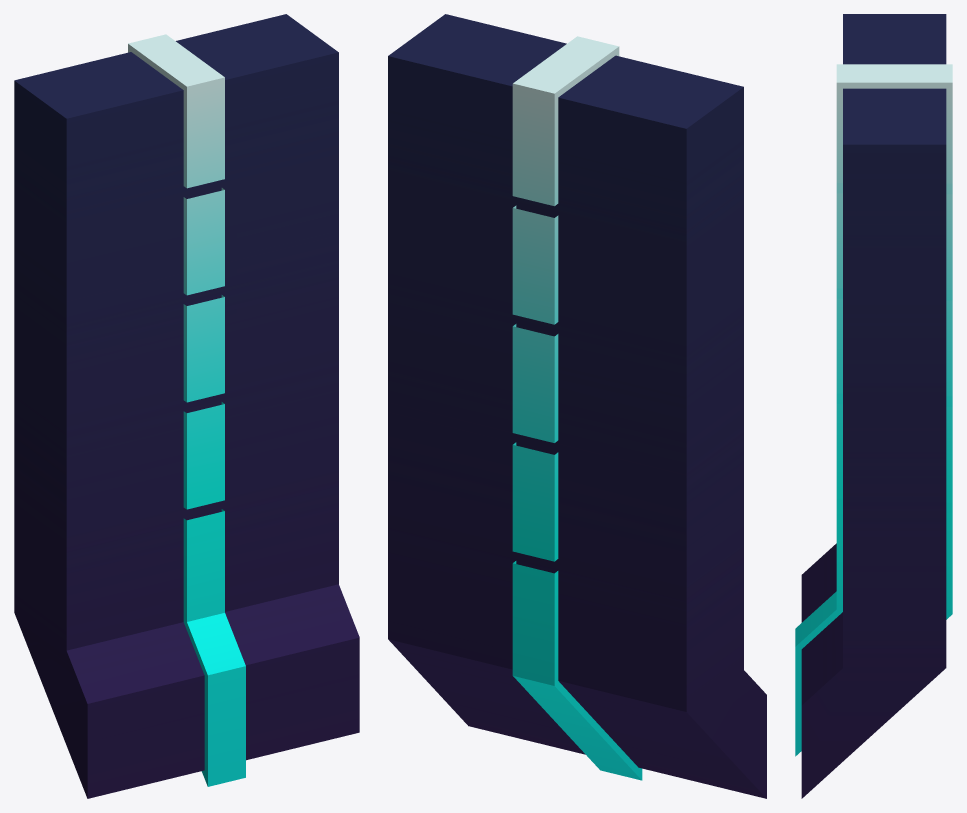
The model's file is SM_Wall_Neon.fbx.
3 renders of one model, left to right at view 1: azimuth 30°, elevation 25°; view 2: azimuth 150°, elevation 25°; view 3: azimuth 270°, elevation 25°, orthographic. The views are drawn at different scales.
Visible parts, largest first — view 1: SM_Wall_Holo2Mesh; view 2: SM_Wall_Holo2Mesh; view 3: SM_Wall_Holo2Mesh.
Boxes of the visible parts, box(x1,y1,x2,y2) form: SM_Wall_Holo2Mesh: box(14, 14, 359, 798); SM_Wall_Holo2Mesh: box(388, 14, 766, 798); SM_Wall_Holo2Mesh: box(795, 14, 952, 798).
Bounding box in the file's own units: 150 × 361 × 76.2.
1 material, 1 textured.
